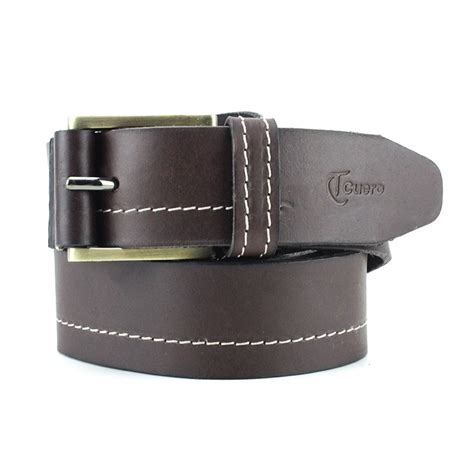cuero: (43, 112, 445, 381)
